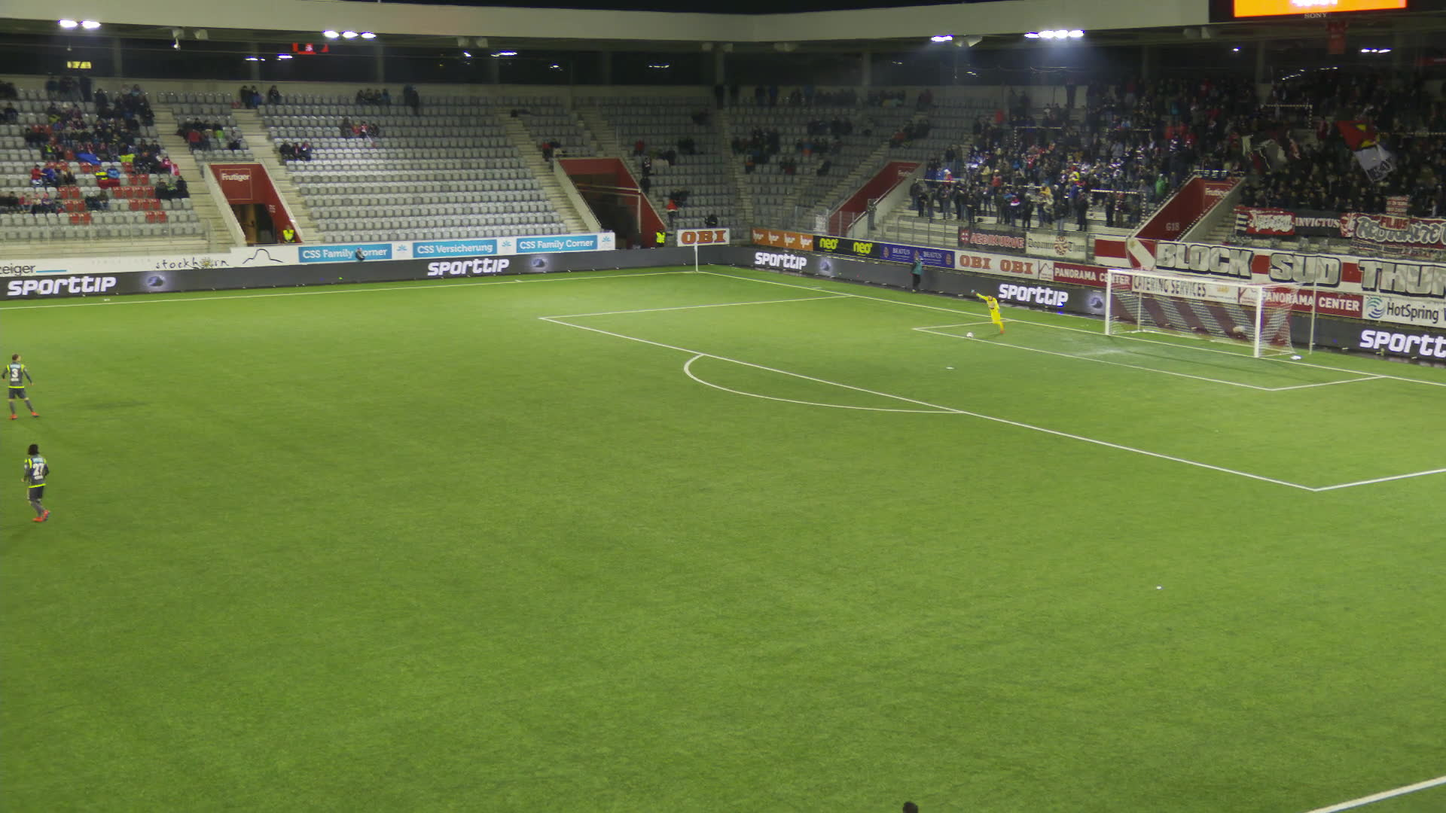ball: (967, 331, 973, 338)
player: (21, 442, 53, 524), (1, 354, 39, 420), (976, 292, 1005, 334)
referee: (902, 800, 918, 812)
